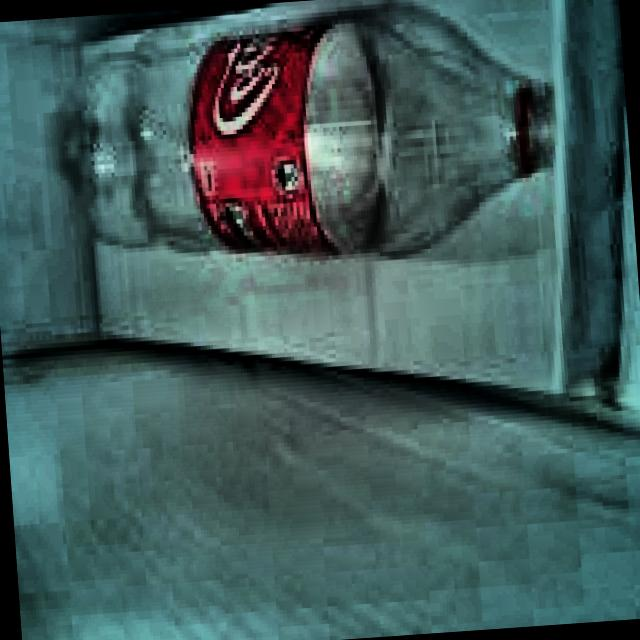plastic bottle: (43, 0, 553, 255)
